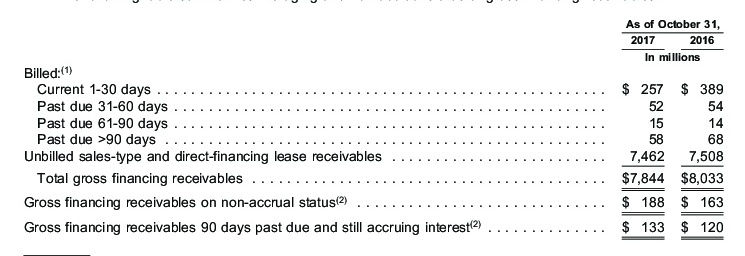table: (0, 0, 745, 256)
